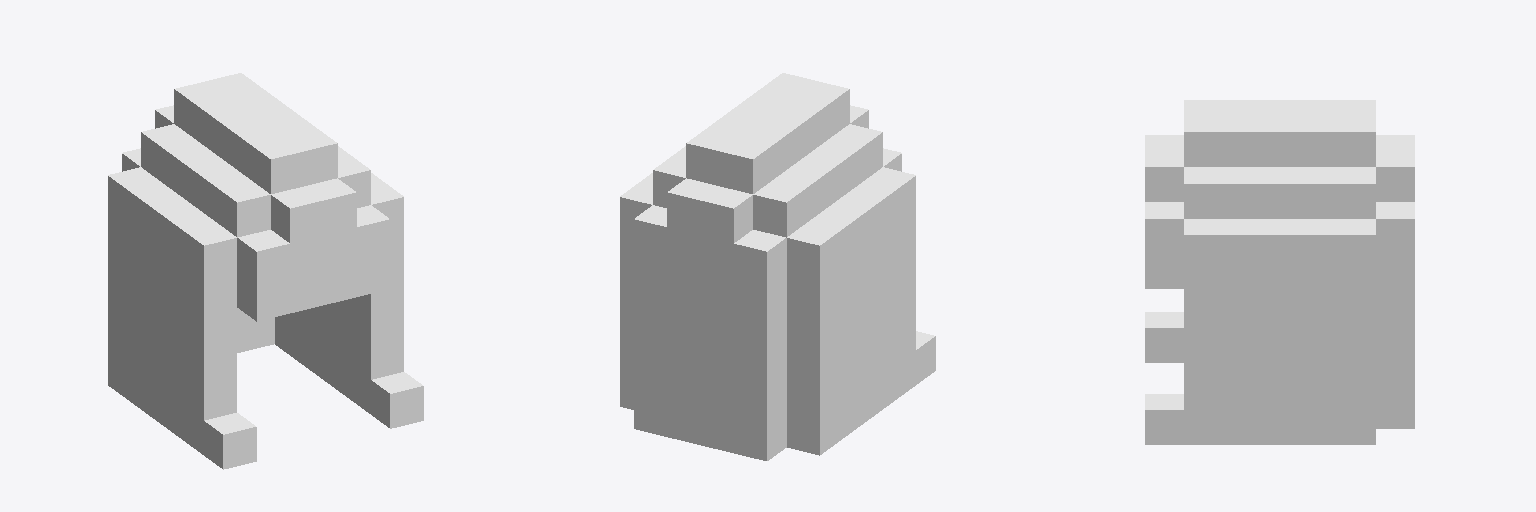
File: char-247-helm_med_2d_du.obj
3 renders of one model, left to right at view 1: azimuth 30°, elevation 25°; view 2: azimuth 150°, elevation 25°; view 3: azimuth 270°, elevation 25°, orthographic.
Parts seen in each view (by area): view 1: helm_med_2d_du; view 2: helm_med_2d_du; view 3: helm_med_2d_du.
Boxes of the visible parts, x1=… form: helm_med_2d_du: x1=108, y1=73, x2=423, y2=469; helm_med_2d_du: x1=620, y1=73, x2=935, y2=460; helm_med_2d_du: x1=1145, y1=100, x2=1414, y2=444.
Bounding box in the file's own units: 0.6 × 0.8 × 0.7.